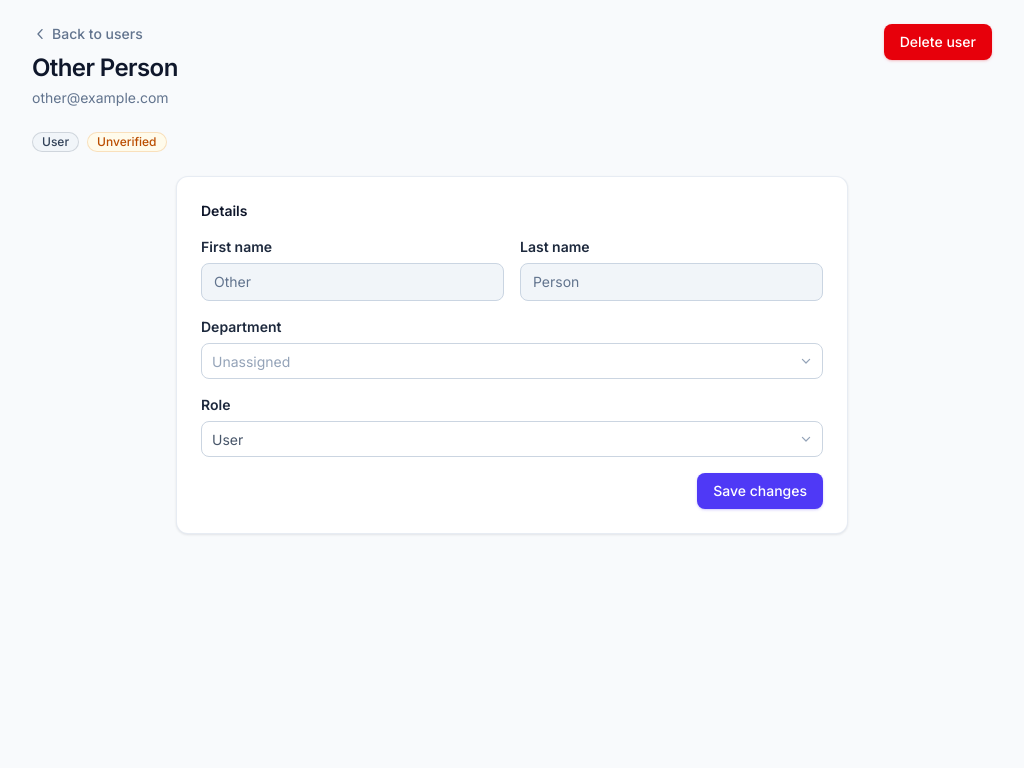
Scenario: UserDetailsPage › closes the dialog and shows an error toast when deletion fails
Click the button "Delete user". click: (938, 42)
box: [884, 24, 992, 60]
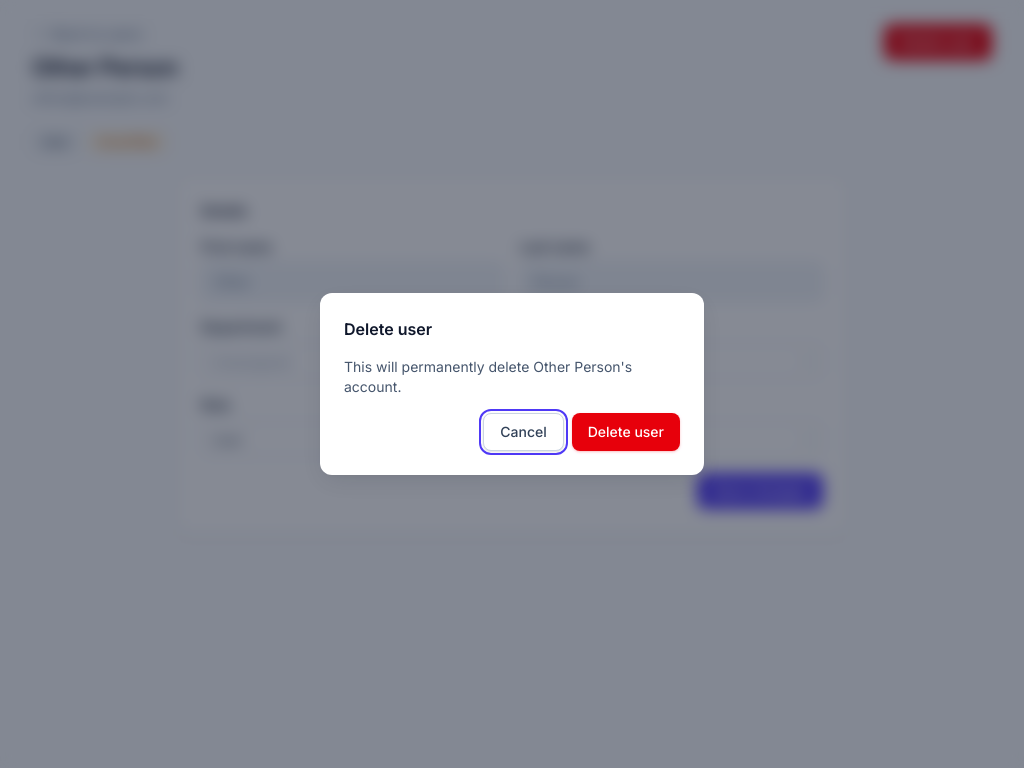
Click the button "Delete user". click: (626, 432)
box: [572, 413, 680, 451]
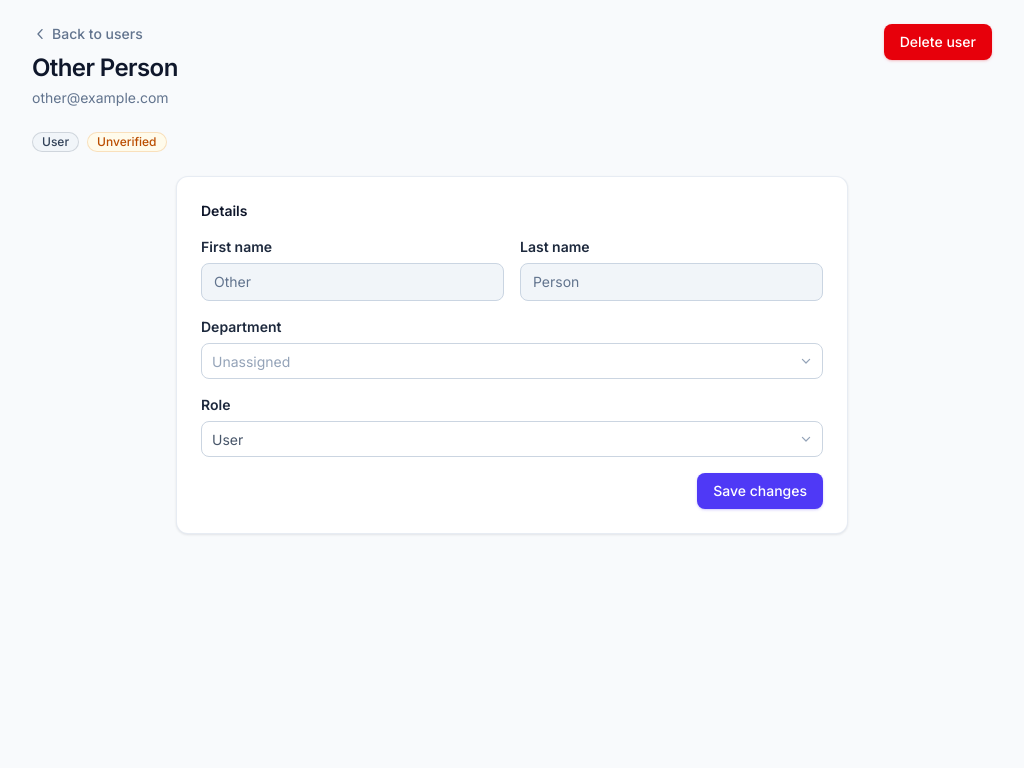
Expected: the dialog is gone
